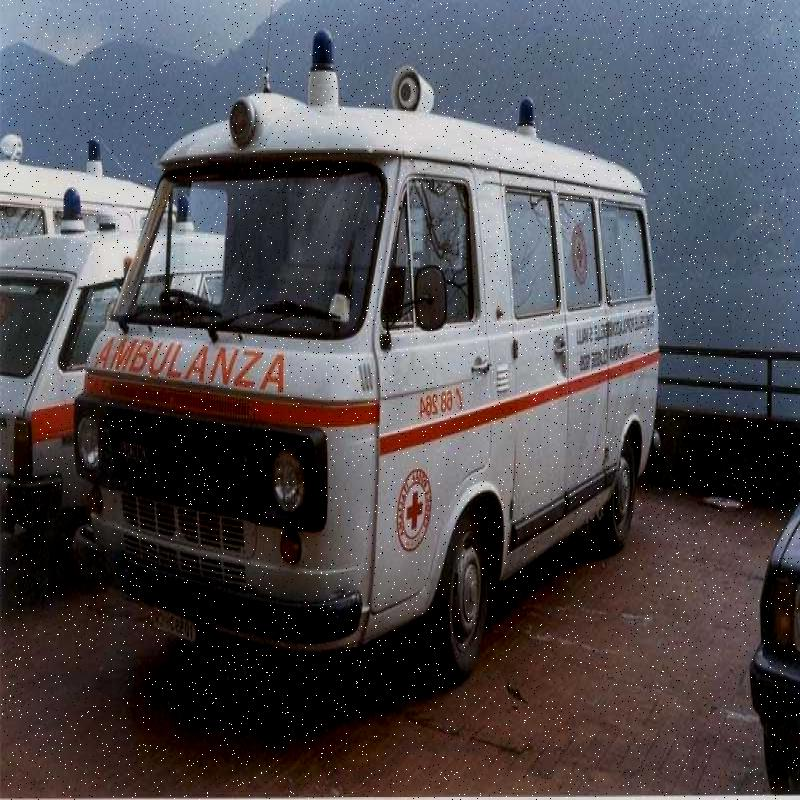AmbulanceSiren: (298, 18, 341, 77)
